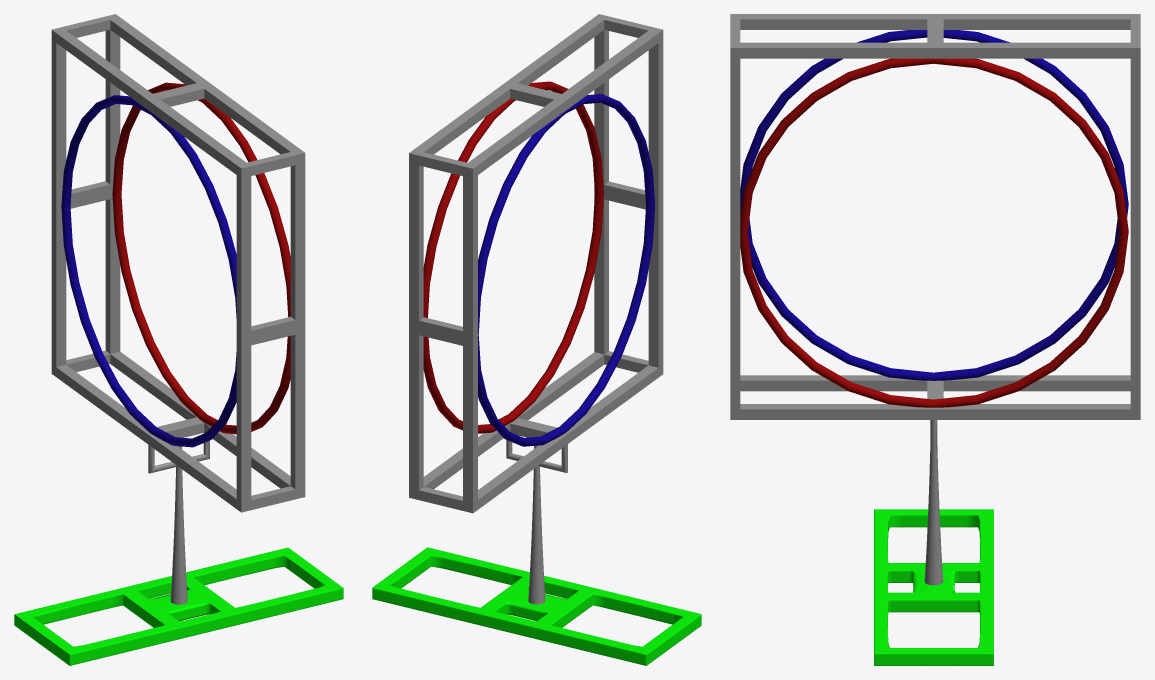
Rendered from 障碍物1.FBX.
3 renders of one model, left to right at view 1: azimuth 30°, elevation 25°; view 2: azimuth 150°, elevation 25°; view 3: azimuth 270°, elevation 25°, orthographic. The views are drawn at different scales.
Parts seen in each view (by area): view 1: dizuo; view 2: dizuo; view 3: dizuo.
Part boxes in pixels (x1,y1,x2,y2): dizuo: [14, 14, 343, 665]; dizuo: [372, 14, 701, 665]; dizuo: [730, 14, 1140, 665].
Size of the model in its own units: 100 by 182 by 120.
